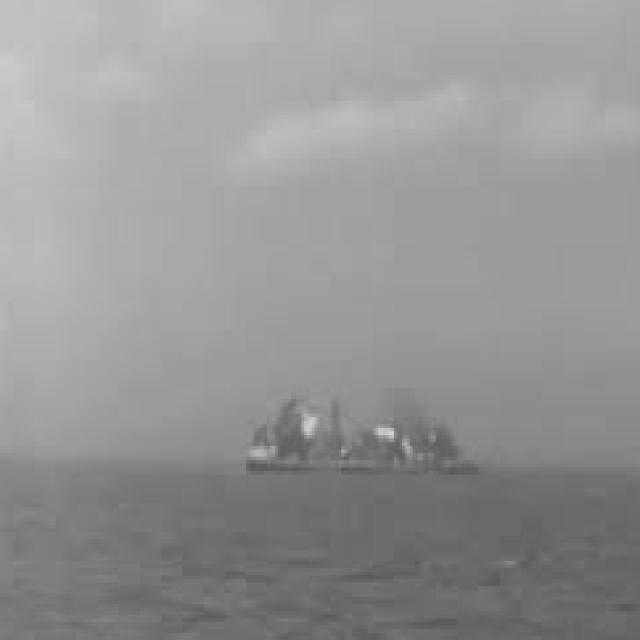fishing boat: (232, 379, 487, 484)
